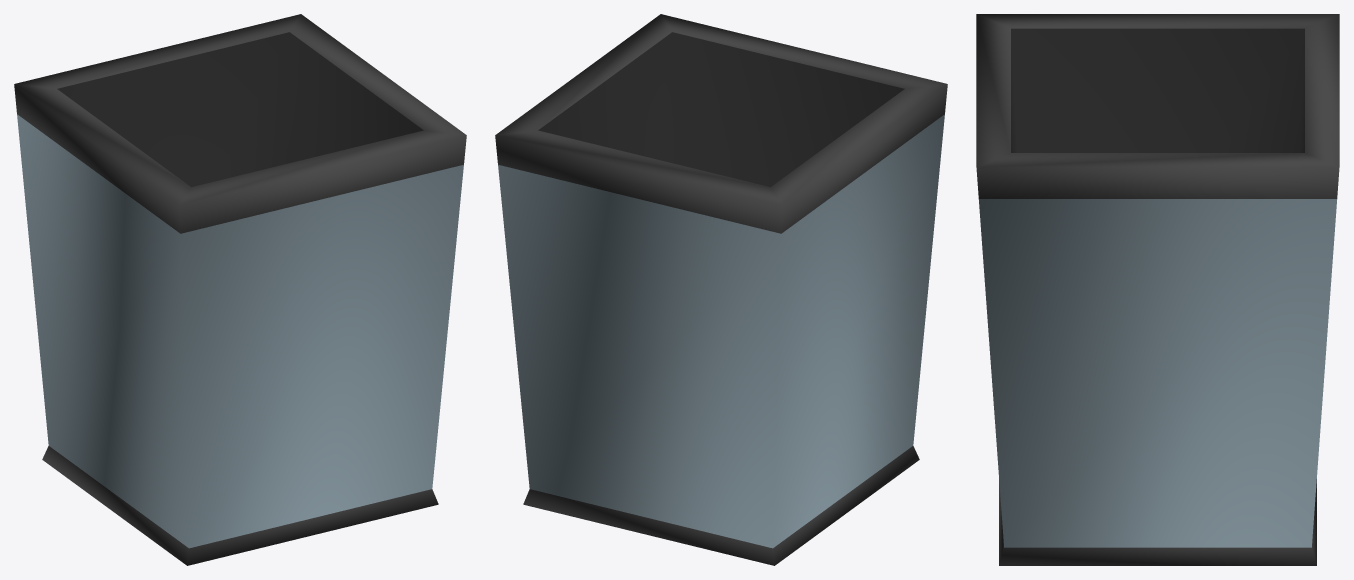
Rendered from bin.fbx.
The picture shows the model from 3 angles, left to right: view 1: azimuth 30°, elevation 25°; view 2: azimuth 150°, elevation 25°; view 3: azimuth 270°, elevation 25°; orthographic projection. The views are drawn at different scales.
Visible parts, largest first — view 1: Bin; view 2: Bin; view 3: Bin.
Boxes of the visible parts, left/top/right/bottom form: Bin: left=14, top=14, right=466, bottom=565; Bin: left=495, top=14, right=947, bottom=565; Bin: left=976, top=14, right=1339, bottom=565.
Size of the model in its own units: 236 by 293 by 236.
Materials: 1 (1 with a texture image).
